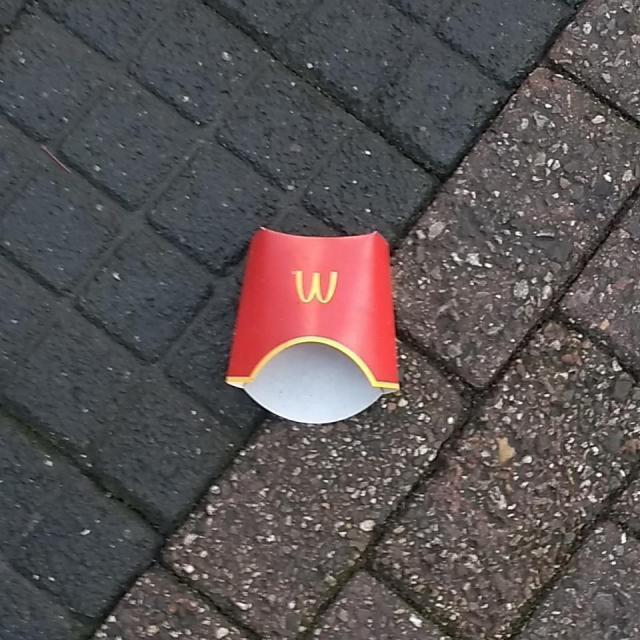Paper: (222, 224, 402, 426)
